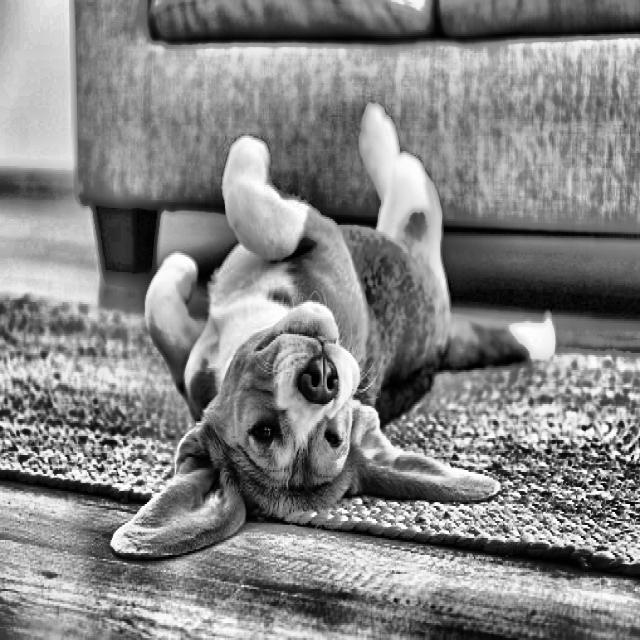beagle: (104, 256, 510, 607)
